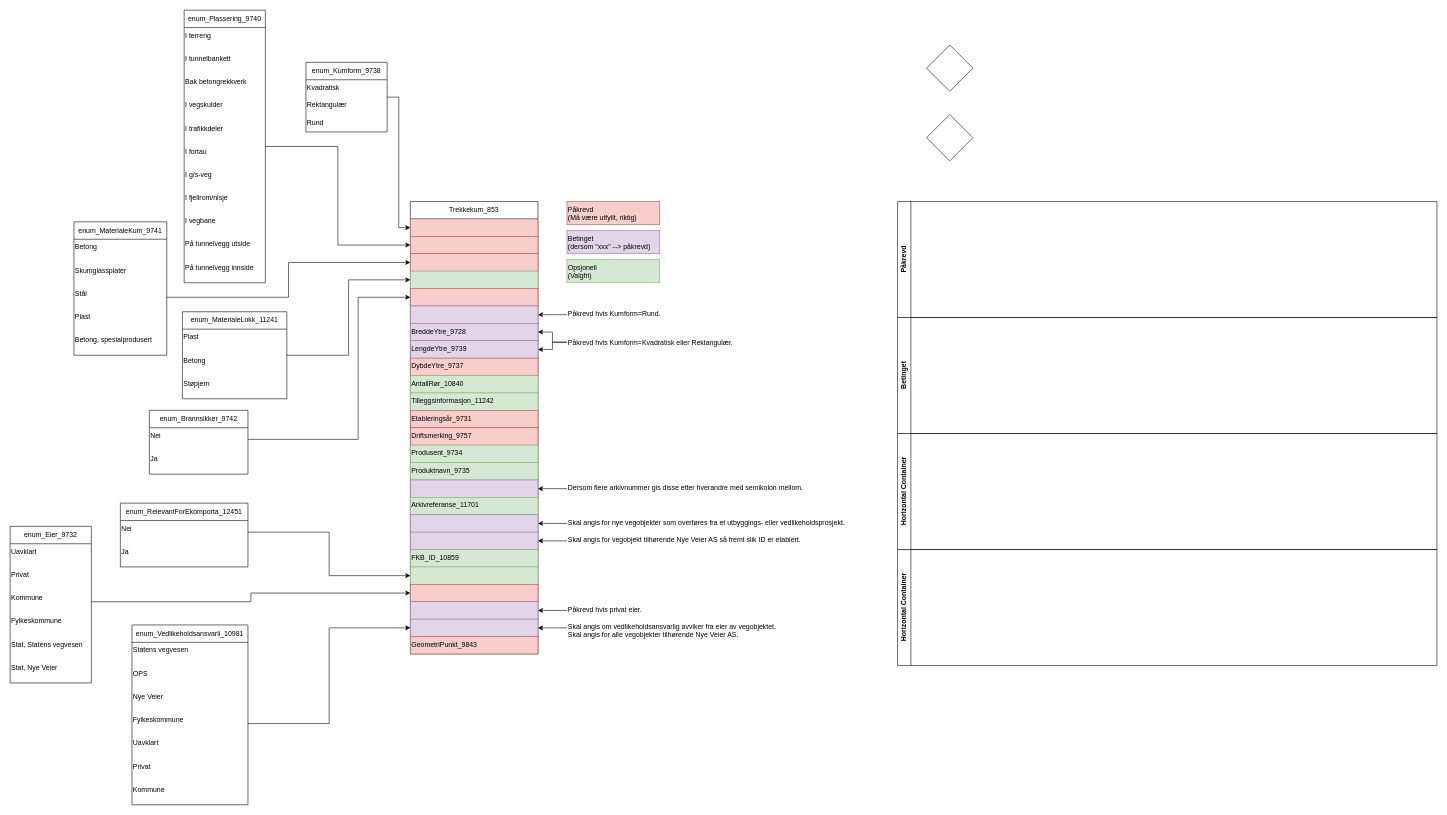
The diagram is 1447 pixels wide and 815 high, and some of its shapes have lost their labels. Here are the shapes that lost their labels. From the top down, the centre of each, then its label:
At point 474,227: "Kumform_9738".
At point 474,245: "Plassering_9740".
At point 474,262: "MaterialeKum_9741".
At point 474,280: "MaterialeLokk_11241".
At point 474,297: "Brannsikker_9742".
At point 474,314: "DiameterYtre_9729".
At point 474,488: "Arkivnummer_9730".
At point 474,523: "Prosjektreferanse_11168".
At point 474,541: "ProsjektInternObjekt_12427".
At point 474,575: "RelevantForEkomporta_12451".
At point 474,593: "Eier_9732".
At point 474,610: "EierNavn_9733".
At point 474,628: "Vedlikeholdsansvarli_10981".
